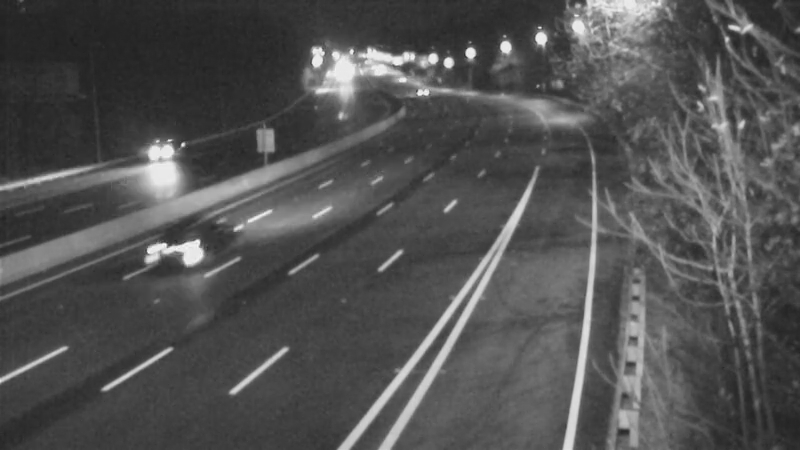vehicle: (135, 207, 215, 287), (118, 115, 198, 195), (393, 64, 443, 114)
